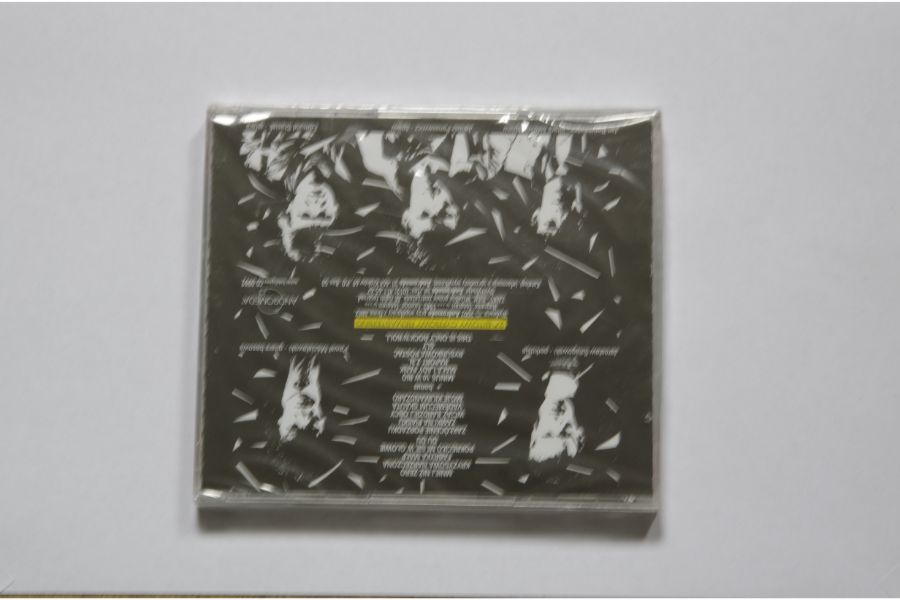album: (191, 101, 665, 515)
